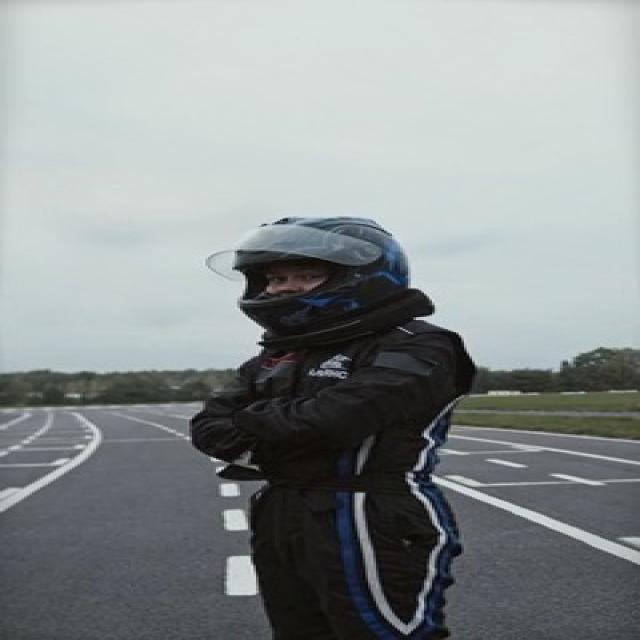Helmet_Wearer: (219, 212, 424, 343)
Jacket_Wearer: (209, 313, 486, 506)
Person: (177, 205, 494, 640)
